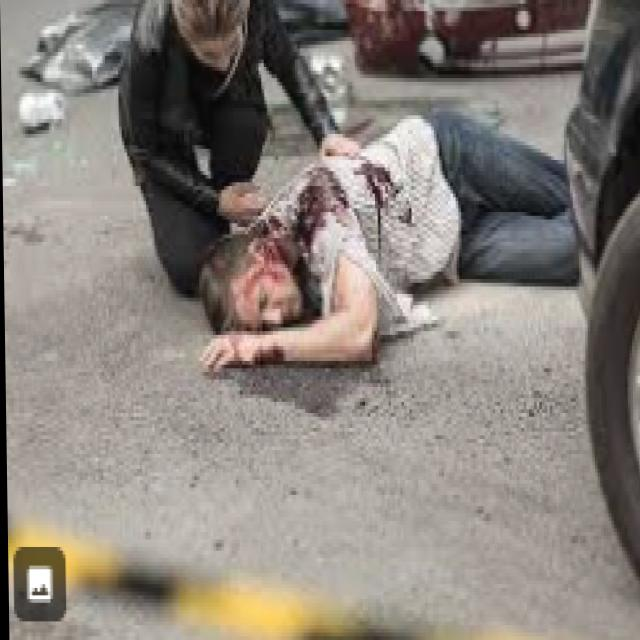injury: (196, 225, 311, 337), (238, 244, 280, 286), (249, 346, 293, 371)
